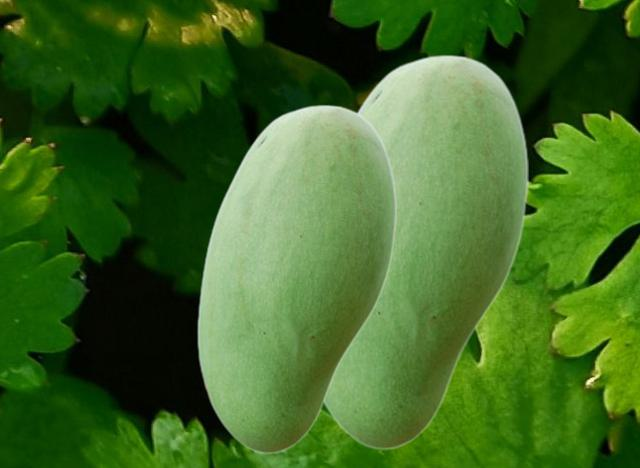green_mango: (323, 54, 527, 449), (196, 104, 395, 453)
